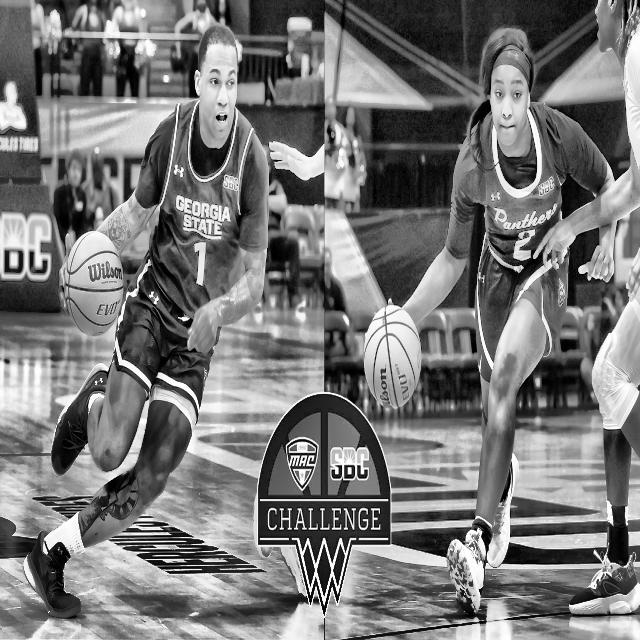Basketball: (63, 231, 123, 335), (364, 305, 421, 407)
